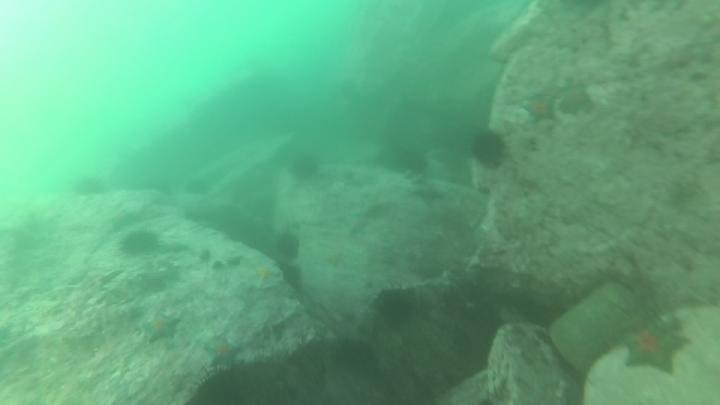echinus: (192, 367, 260, 405), (369, 285, 421, 334), (332, 336, 375, 375), (472, 128, 508, 169), (121, 228, 163, 261), (397, 147, 431, 177), (70, 176, 111, 198), (289, 156, 322, 182), (276, 232, 303, 261), (278, 263, 304, 291), (182, 177, 213, 199)
starfish: (620, 313, 693, 378), (141, 311, 185, 347), (204, 334, 245, 372), (521, 91, 559, 128), (410, 179, 448, 211), (250, 263, 280, 286)
